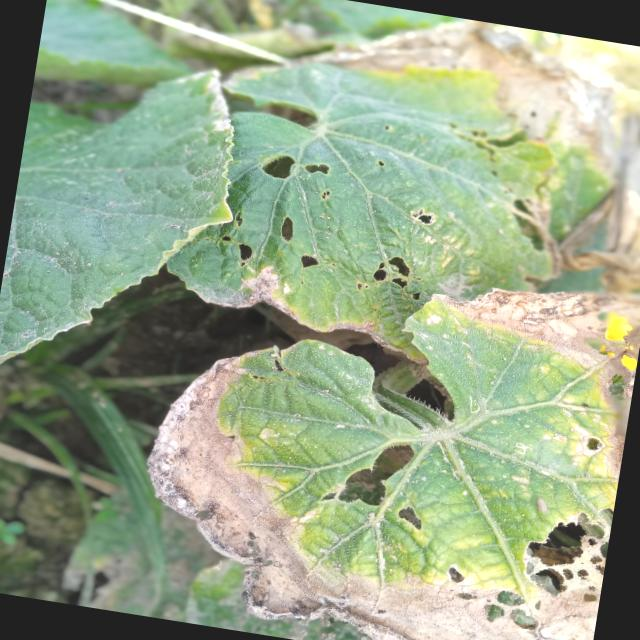cucumber_gummy: (121, 227, 640, 640), (164, 89, 562, 372), (290, 0, 640, 162)
